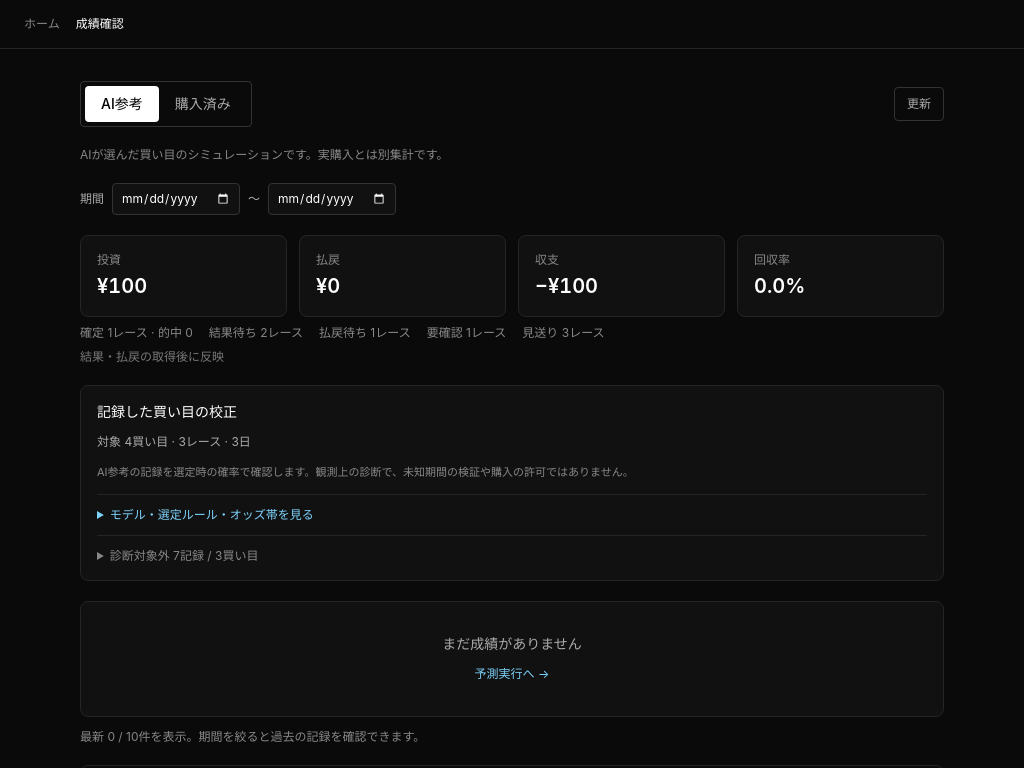
Test: performance diagnostics loading and selection scope › does not show an out-of-filter cohort returned by the backend
Expected: the text "対象 4買い目 · 3レース · 3日" is shown, top-left (97, 434), bottom-right (251, 449)
Type "2026-10-10" into the date field named "開始日" at point(176, 199), box top-left (112, 183), bottom-right (240, 215)
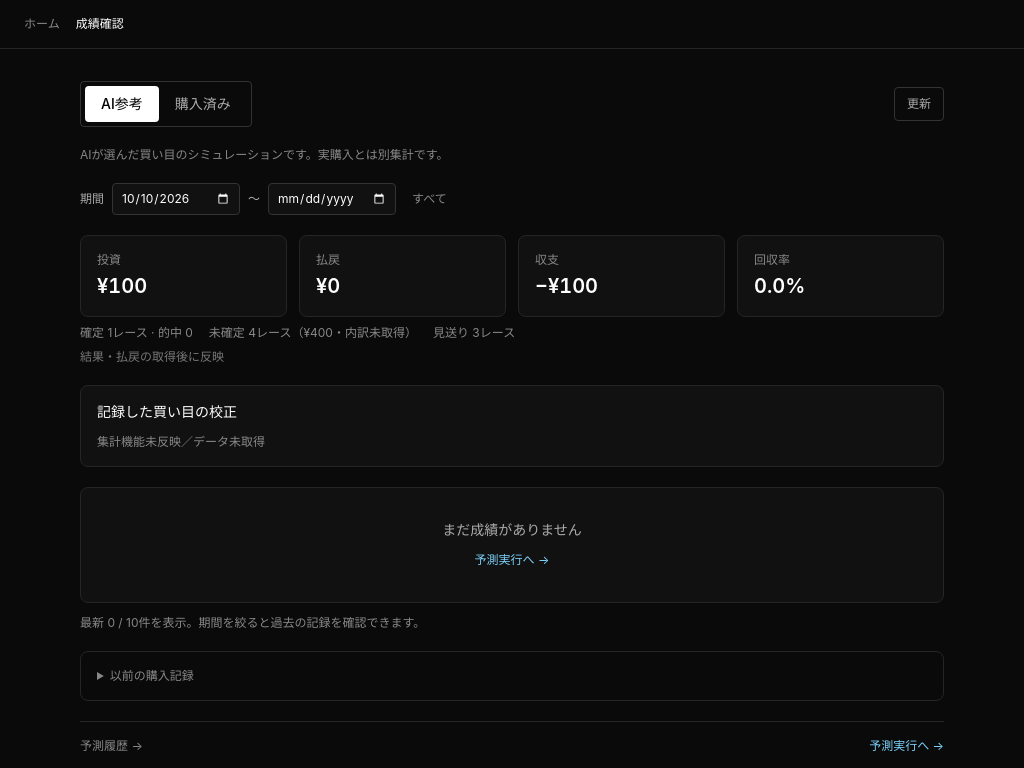
Expected: the text "集計機能未反映／データ未取得" is shown, top-left (97, 434), bottom-right (265, 449)
Expected: the text "対象 4買い目 · 3レース · 3日" is gone
